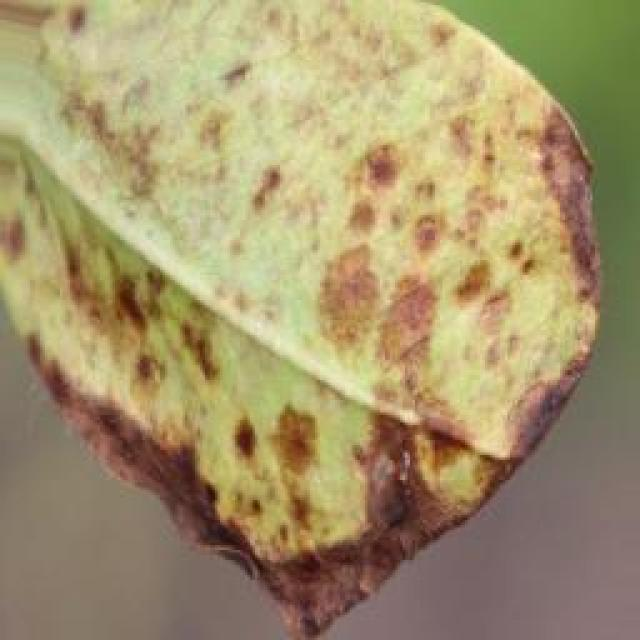Whitefly: (6, 0, 564, 619)
